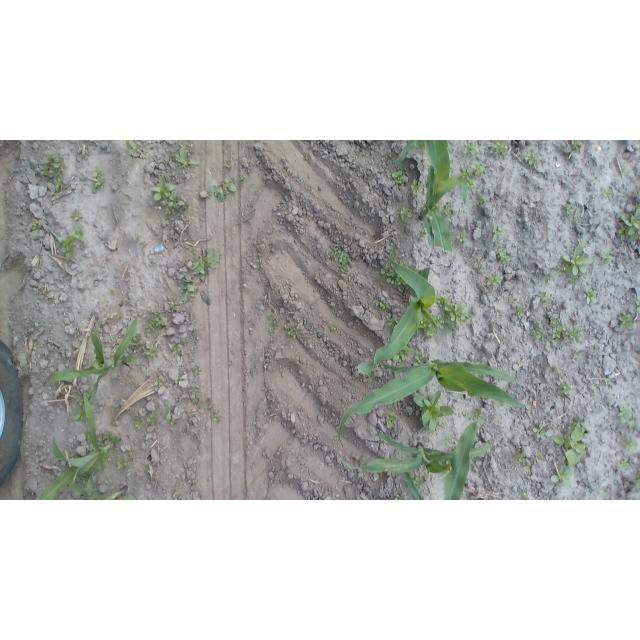Maize: (335, 358, 525, 445), (357, 253, 437, 373), (34, 395, 115, 500), (46, 315, 138, 405), (404, 421, 490, 500), (337, 432, 492, 472), (419, 141, 468, 258), (67, 480, 137, 500), (396, 141, 425, 168)
Weeds: (413, 390, 453, 434), (553, 418, 586, 467), (434, 295, 465, 334), (189, 247, 220, 281), (55, 225, 85, 259), (563, 245, 593, 275), (616, 206, 640, 241), (459, 161, 486, 190), (553, 324, 585, 345), (381, 262, 407, 286), (327, 246, 350, 271), (151, 176, 174, 201), (174, 147, 200, 169), (40, 153, 65, 175), (550, 466, 575, 487), (165, 194, 188, 215), (416, 317, 437, 339), (91, 167, 106, 194), (145, 313, 165, 332), (618, 406, 635, 427), (410, 470, 426, 491), (179, 281, 195, 302), (436, 202, 452, 223), (50, 177, 67, 196), (392, 346, 412, 362), (208, 185, 225, 203), (582, 285, 598, 304), (618, 311, 634, 330), (123, 140, 142, 153), (486, 273, 502, 288), (525, 150, 539, 167), (392, 171, 407, 186), (143, 344, 157, 360), (464, 140, 478, 156), (104, 431, 121, 444), (490, 141, 507, 154), (533, 424, 547, 439), (511, 448, 525, 463), (398, 206, 413, 220), (530, 328, 546, 341), (410, 180, 423, 196), (386, 412, 398, 429), (193, 391, 204, 409), (115, 456, 129, 470), (145, 411, 159, 425), (74, 407, 87, 422), (413, 352, 427, 365), (386, 316, 400, 329), (386, 246, 399, 260), (558, 382, 572, 395), (164, 400, 173, 420), (623, 438, 638, 450), (601, 249, 613, 264), (491, 224, 501, 241), (267, 316, 277, 333), (498, 248, 511, 261), (285, 325, 297, 339), (376, 300, 392, 310), (366, 368, 379, 380), (132, 416, 145, 428), (224, 179, 236, 192), (69, 210, 83, 221), (171, 344, 182, 356), (32, 220, 43, 232), (473, 407, 483, 420), (633, 471, 640, 489), (131, 333, 142, 344), (457, 235, 468, 246), (443, 436, 454, 446), (515, 307, 525, 318), (541, 293, 551, 304), (563, 204, 574, 214), (80, 473, 89, 485), (472, 198, 484, 207), (552, 265, 562, 275), (102, 453, 113, 462), (202, 293, 211, 304), (571, 140, 582, 149), (568, 277, 582, 284), (212, 412, 220, 424), (465, 311, 473, 323), (83, 391, 91, 403), (394, 493, 407, 500), (523, 462, 532, 472), (418, 227, 427, 237), (462, 410, 473, 418), (408, 265, 419, 273), (155, 378, 164, 387), (574, 350, 583, 359), (551, 365, 561, 373), (76, 396, 84, 406), (182, 338, 191, 346), (70, 453, 80, 460), (193, 366, 200, 375), (621, 459, 628, 468), (508, 296, 517, 303), (545, 341, 551, 351), (466, 360, 478, 365), (577, 237, 584, 245), (603, 190, 611, 197), (635, 301, 640, 311), (171, 302, 178, 309), (550, 317, 557, 324), (166, 155, 173, 162), (134, 233, 141, 240), (518, 359, 525, 366), (97, 441, 105, 447), (106, 288, 114, 294), (384, 164, 393, 169), (536, 455, 543, 461), (100, 463, 106, 470), (605, 379, 612, 385), (330, 324, 335, 332), (224, 192, 230, 198), (621, 169, 627, 175), (387, 152, 393, 158), (175, 378, 182, 383), (225, 164, 232, 169), (500, 387, 507, 392), (543, 274, 548, 281), (37, 285, 44, 290), (520, 491, 528, 495), (174, 491, 179, 497), (129, 450, 135, 455), (112, 406, 117, 412), (306, 153, 311, 159), (48, 298, 54, 303), (140, 242, 146, 247), (84, 431, 88, 438), (144, 467, 149, 472), (241, 176, 246, 181), (396, 372, 401, 377), (117, 312, 121, 318), (170, 421, 174, 426), (366, 424, 370, 429), (135, 268, 139, 272), (125, 299, 128, 302)
